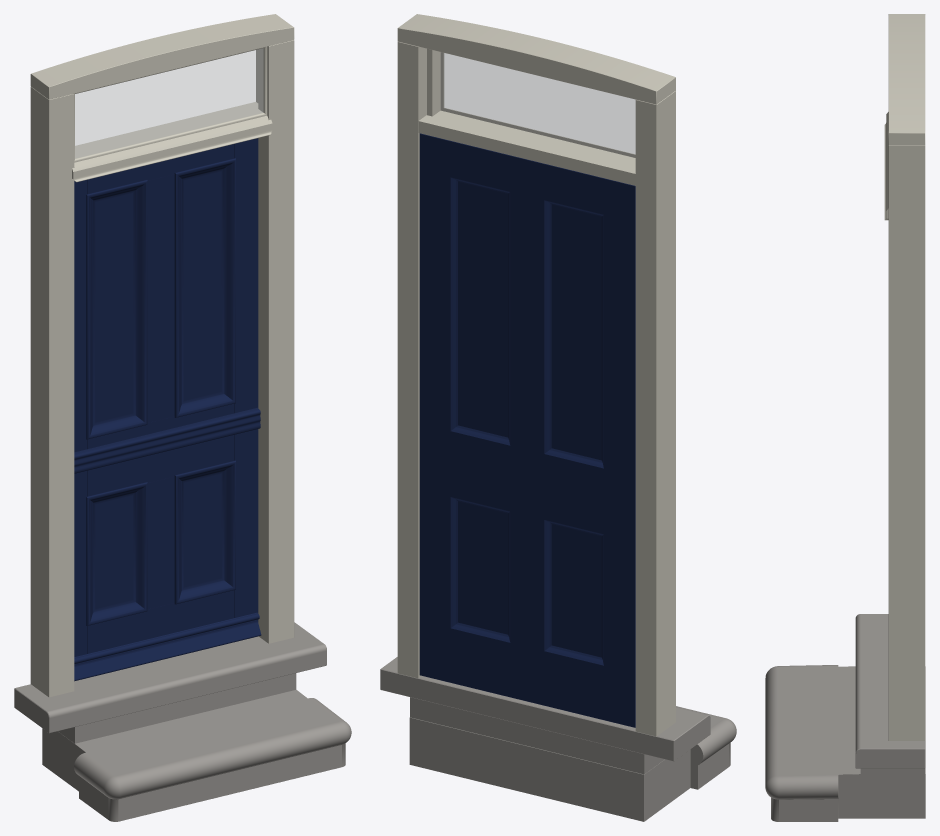
The model's file is door_T1.glb.
3 renders of one model, left to right at view 1: azimuth 30°, elevation 25°; view 2: azimuth 150°, elevation 25°; view 3: azimuth 270°, elevation 25°, orthographic. The views are drawn at different scales.
Parts seen in each view (by area): view 1: leaf_frame, frame_jamb_L, stone_tread, frame_jamb_R, stone_threshold, glass_fanlight, frame_head, panel_top_left, panel_top_right, moulding_bolection_top_right, moulding_bolection_top_left, frame_transom (+8 smaller); view 2: leaf_frame, frame_jamb_L, frame_jamb_R, stone_tread, panel_top_right, panel_top_left, glass_fanlight, frame_head, stone_threshold, panel_bottom_left, panel_bottom_right, frame_transom (+6 smaller); view 3: frame_jamb_R, stone_tread, stone_threshold, frame_head, frame_transom, stone_riser.
Part boxes in pixels (<box>): leaf_frame: <box>74,138,258,656</box>; frame_jamb_L: <box>30,87,74,697</box>; stone_tread: <box>42,689,351,821</box>; frame_jamb_R: <box>256,40,294,643</box>; stone_threshold: <box>14,622,326,733</box>; glass_fanlight: <box>75,48,263,158</box>; frame_head: <box>30,14,294,99</box>; panel_top_left: <box>95,193,132,422</box>; panel_top_right: <box>184,171,221,400</box>; moulding_bolection_top_right: <box>174,158,235,417</box>; moulding_bolection_top_left: <box>86,180,147,439</box>; frame_transom: <box>72,102,272,182</box>; leaf_frame: <box>419,133,635,727</box>; frame_jamb_L: <box>635,91,675,736</box>; frame_jamb_R: <box>397,41,440,678</box>; stone_tread: <box>409,706,736,821</box>; panel_top_right: <box>458,181,508,437</box>; panel_top_left: <box>551,204,601,460</box>; glass_fanlight: <box>441,52,635,157</box>; frame_head: <box>397,14,675,104</box>; stone_threshold: <box>380,657,710,761</box>; panel_bottom_left: <box>551,524,601,657</box>; panel_bottom_right: <box>458,501,508,634</box>; frame_transom: <box>418,110,635,185</box>; frame_jamb_R: <box>888,145,925,740</box>; stone_tread: <box>765,665,925,821</box>; stone_threshold: <box>855,614,925,768</box>; frame_head: <box>888,14,925,145</box>; frame_transom: <box>884,112,888,220</box>; stone_riser: <box>860,768,924,773</box>.
Size of the model in its own units: 1.11 by 2.66 by 0.5543.
